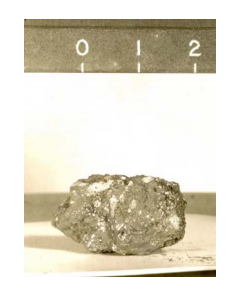Breccia: (52, 162, 201, 258)
